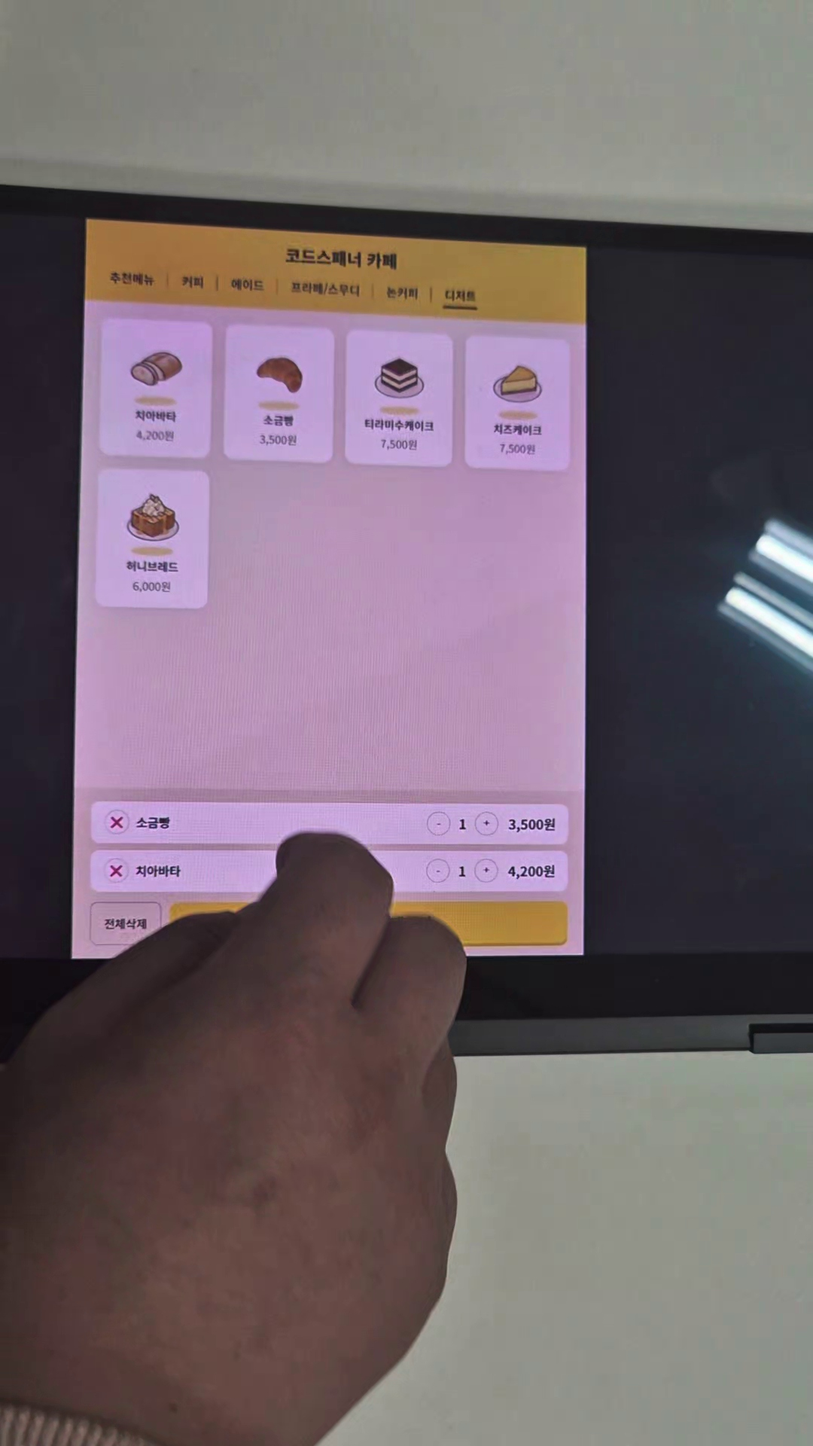action_button: (169, 901, 567, 943), (91, 902, 161, 944)
cart_item: (91, 802, 569, 845), (92, 850, 569, 891)
category_tab: (290, 280, 364, 296), (109, 271, 155, 287), (387, 285, 421, 300), (444, 287, 477, 302), (231, 278, 265, 291), (181, 274, 205, 288)
menu_back: (93, 467, 209, 613), (223, 323, 333, 467), (101, 320, 212, 457), (346, 330, 453, 468), (466, 335, 572, 473)
menu_name: (363, 418, 435, 432), (492, 424, 543, 436), (125, 559, 180, 570), (134, 410, 179, 423), (263, 415, 295, 426)
menu_price: (134, 429, 176, 443), (131, 580, 172, 594), (259, 434, 298, 446), (379, 439, 418, 451), (499, 444, 537, 456)
